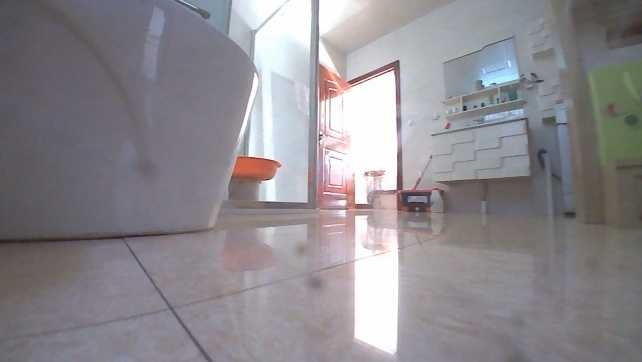door_anno: (312, 62, 357, 210)
toilet: (0, 0, 260, 244)
washstand: (428, 114, 531, 214)
